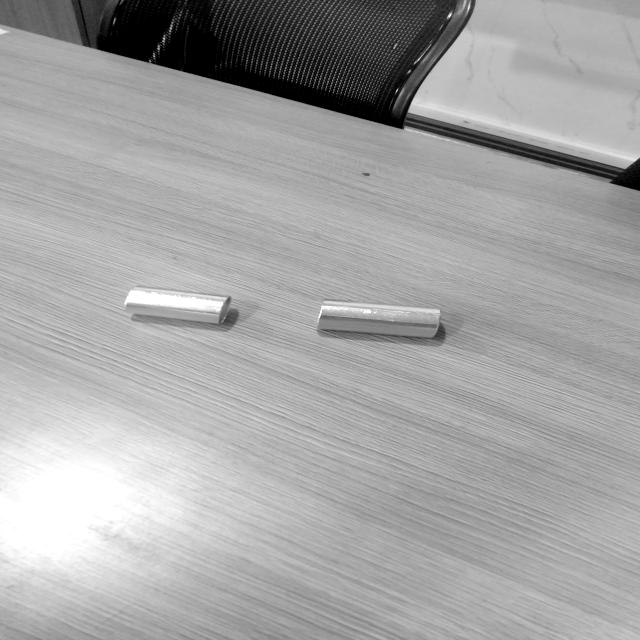Co_Lon: (317, 299, 441, 341)
Co_Nho: (123, 286, 231, 326)
